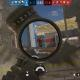Character: (36, 37, 44, 48)
Head: (38, 37, 40, 39)
